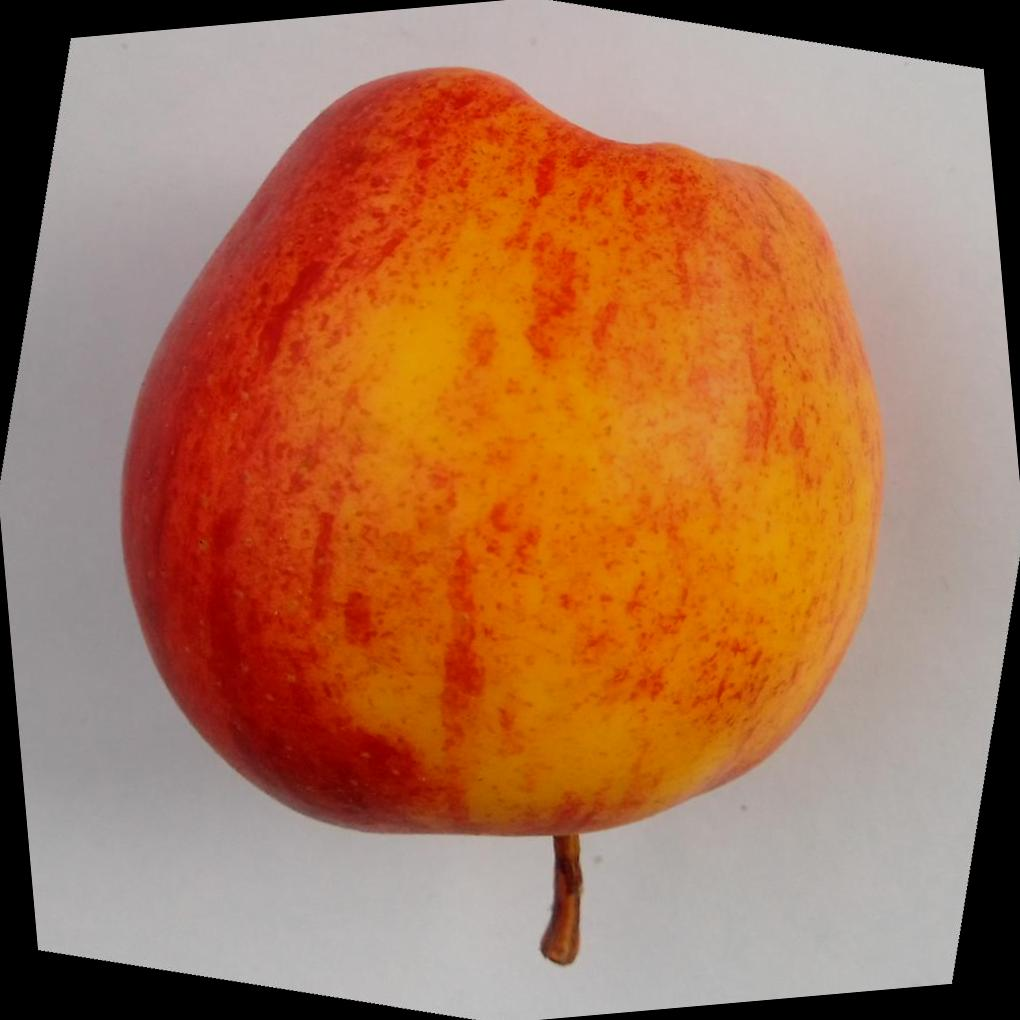FreshGuava: (119, 60, 887, 840)
